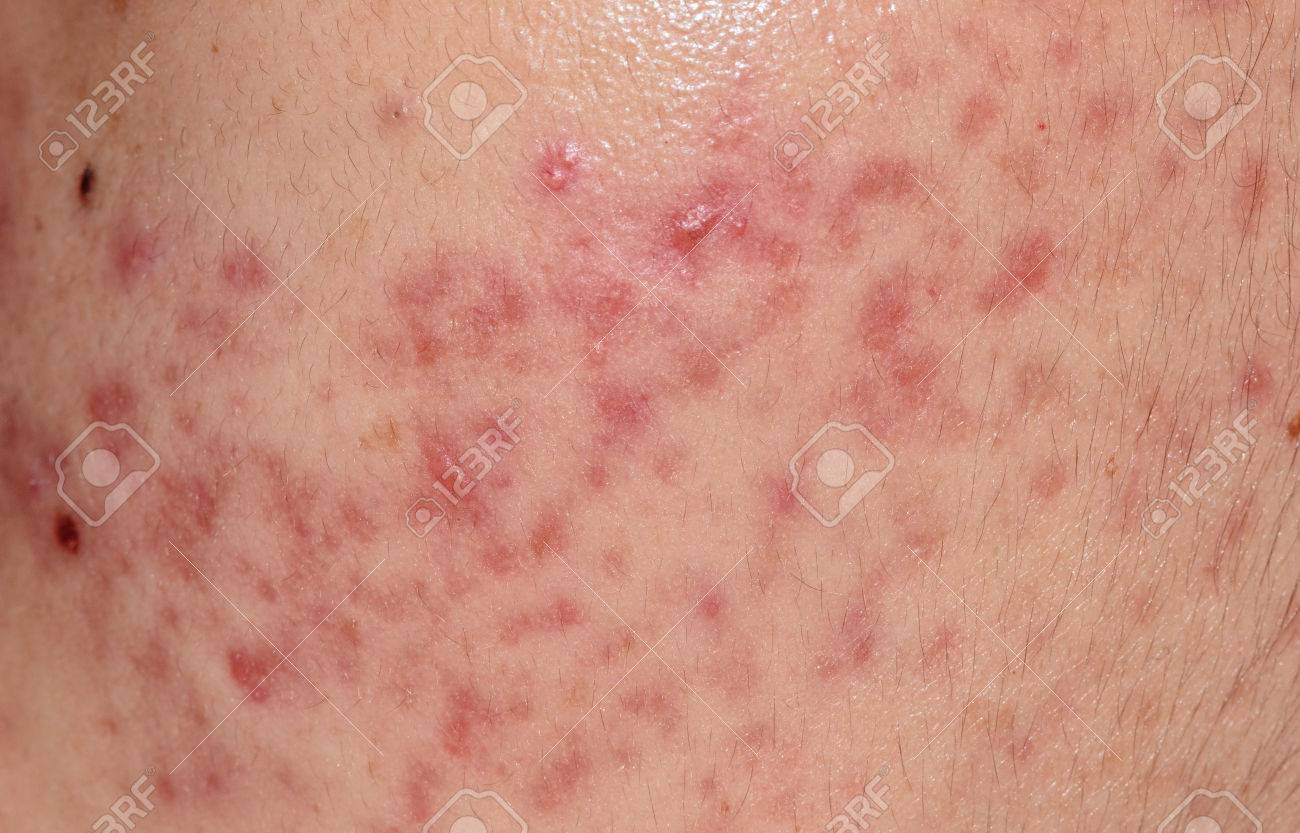acene: (84, 131, 916, 555)
